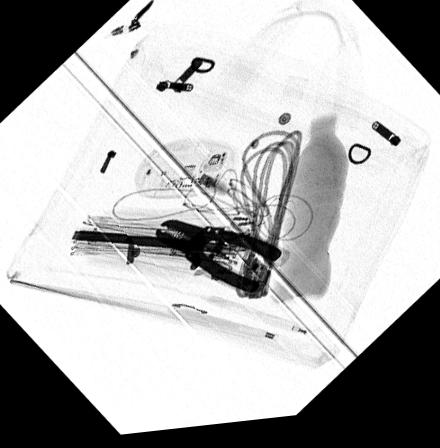Pliers: (152, 221, 283, 298)
